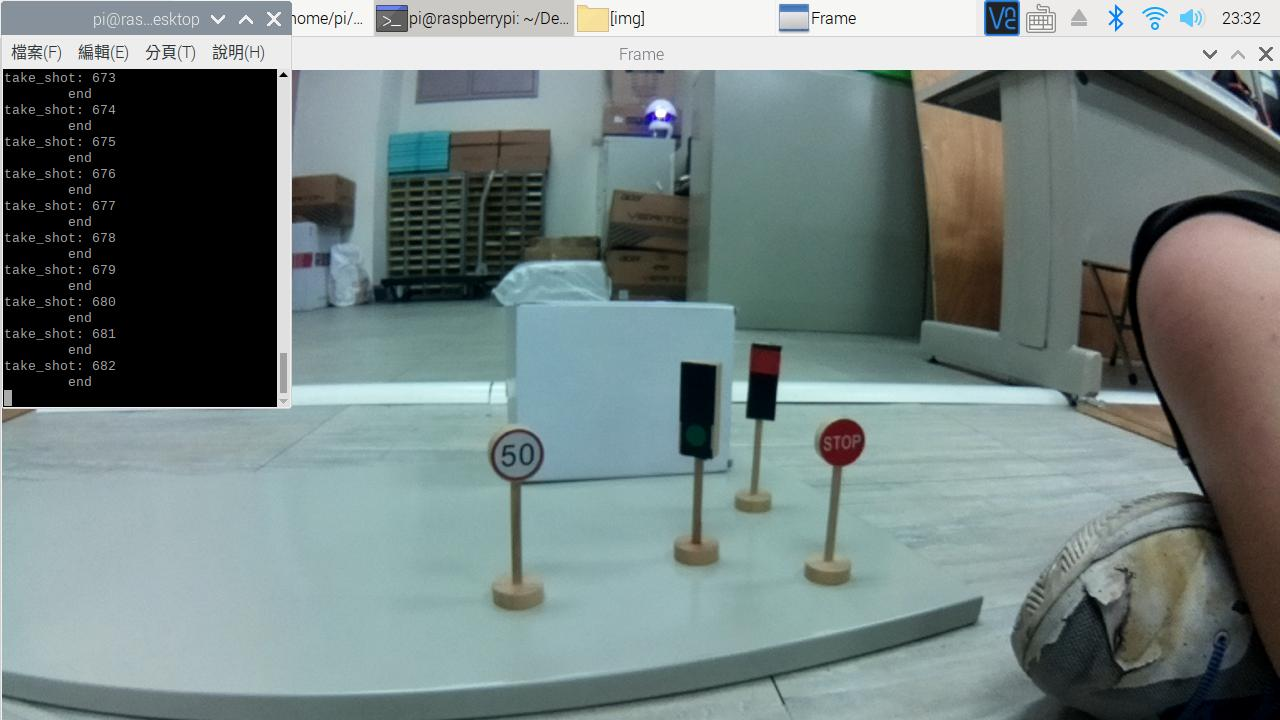Green: (660, 355, 733, 468)
Red: (744, 333, 794, 435)
Speed50: (482, 420, 555, 483)
Stop: (812, 416, 874, 478)
